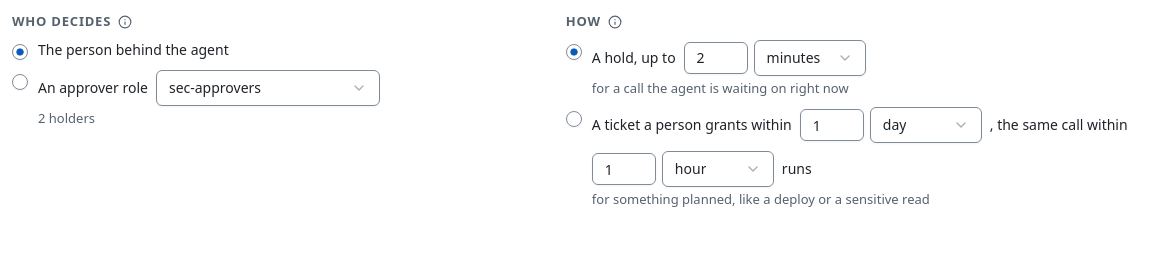
Test case: the approval choice › routes to the first approver role, or to the role picked from the list
Click the radio button named "An approver role": (20, 82) [12,74,28,90]
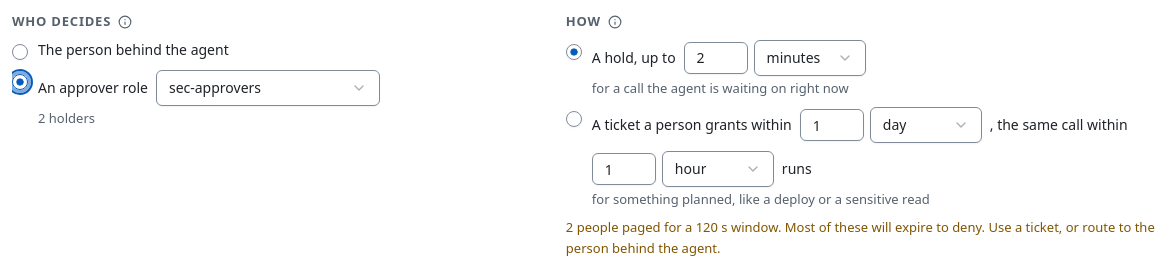
Expected: the text "sec-approvers" is shown, [169,78,261,98]
Click the radio button named "The person behind the agent": (20, 52) [12,44,28,60]
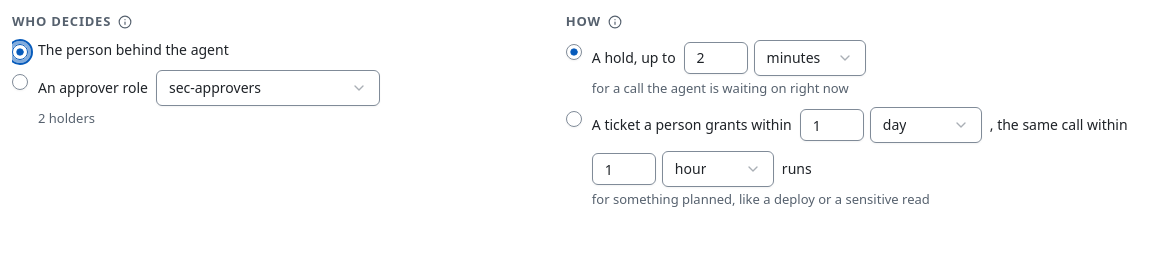
Click the dropdown named "An approver role": (268, 88) [156,70,380,106]
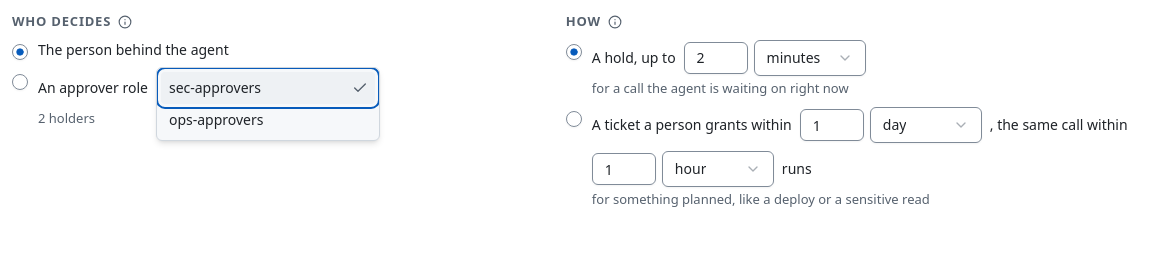
Click the option "ops-approvers": (216, 119) [169,110,264,128]
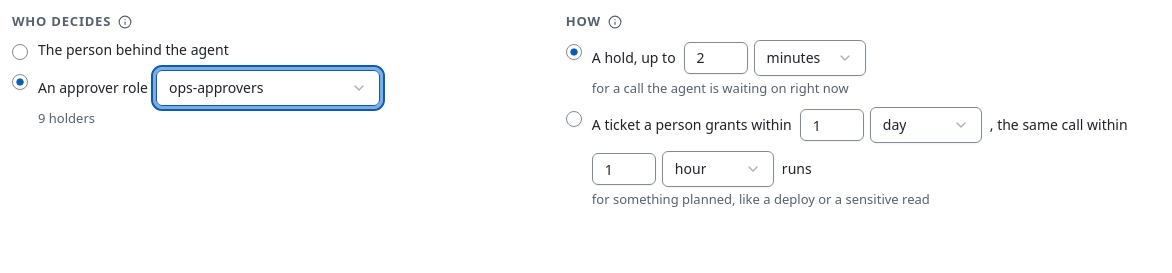
Now the text "ops-approvers" is shown, box [169,78,264,98]
Now the text "9 holders" is shown, box [38,108,95,126]
